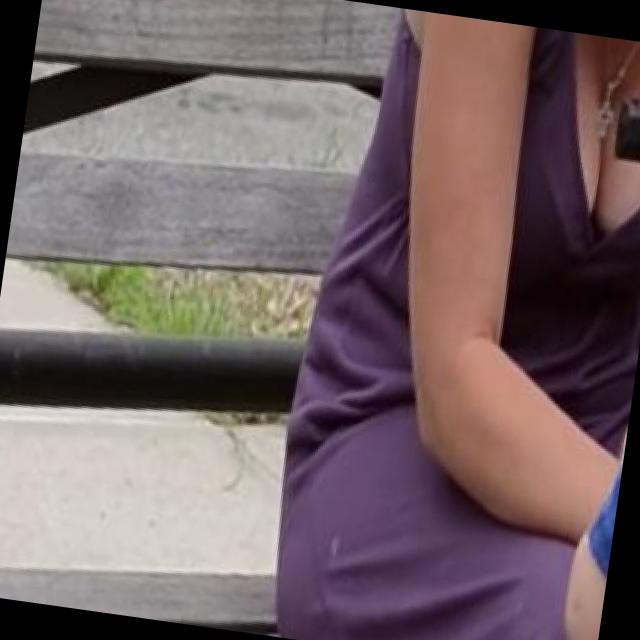Guns: (583, 80, 640, 293)
